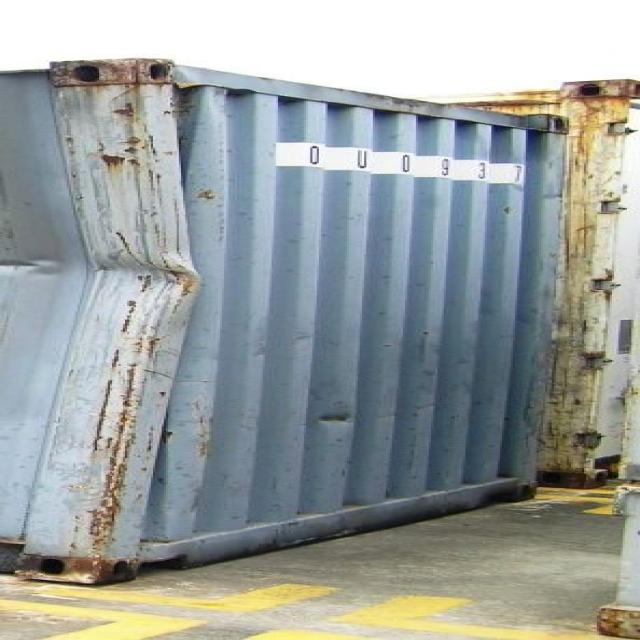dent: (44, 63, 225, 582), (314, 416, 355, 425)
